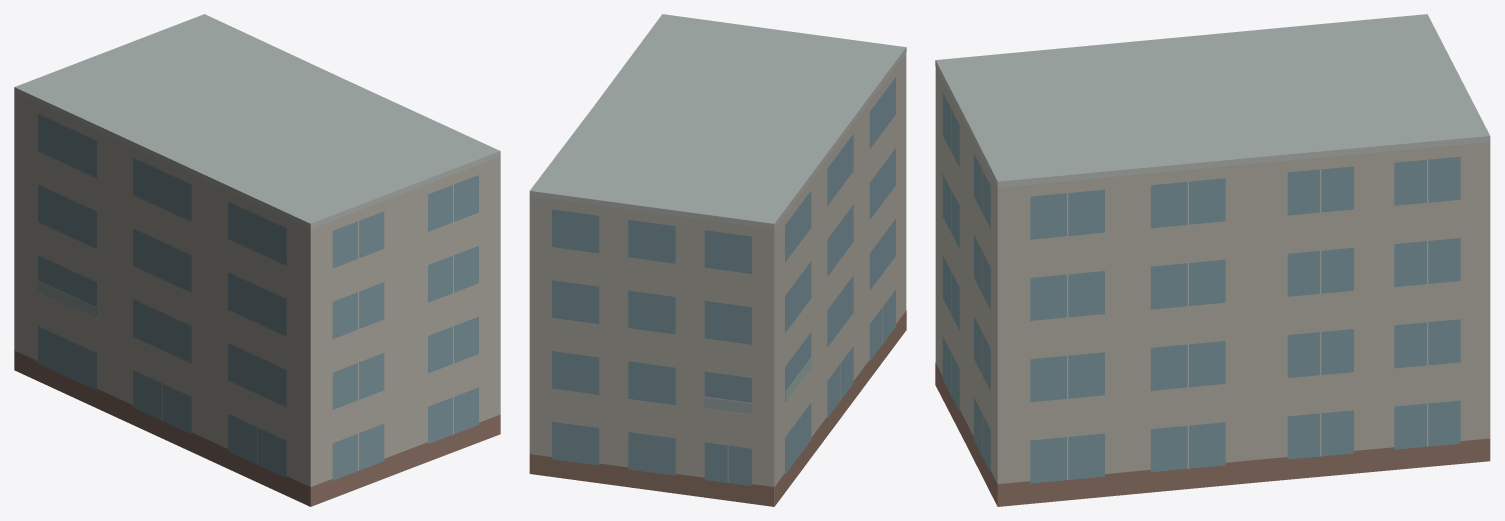
File: survey-upis-32707541.glb
The picture shows the model from 3 angles, left to right: view 1: azimuth 30°, elevation 25°; view 2: azimuth 150°, elevation 25°; view 3: azimuth 270°, elevation 25°; orthographic projection. The views are drawn at different scales.
Visible parts, largest first — view 1: survey-upis-32707541.tmp; view 2: survey-upis-32707541.tmp; view 3: survey-upis-32707541.tmp.
Boxes of the visible parts, x1,y1,x2,y2 form: survey-upis-32707541.tmp: (14, 14, 500, 506); survey-upis-32707541.tmp: (529, 14, 906, 506); survey-upis-32707541.tmp: (935, 14, 1490, 506).
Bounding box in the file's own units: 14.39 × 13 × 20.11.
